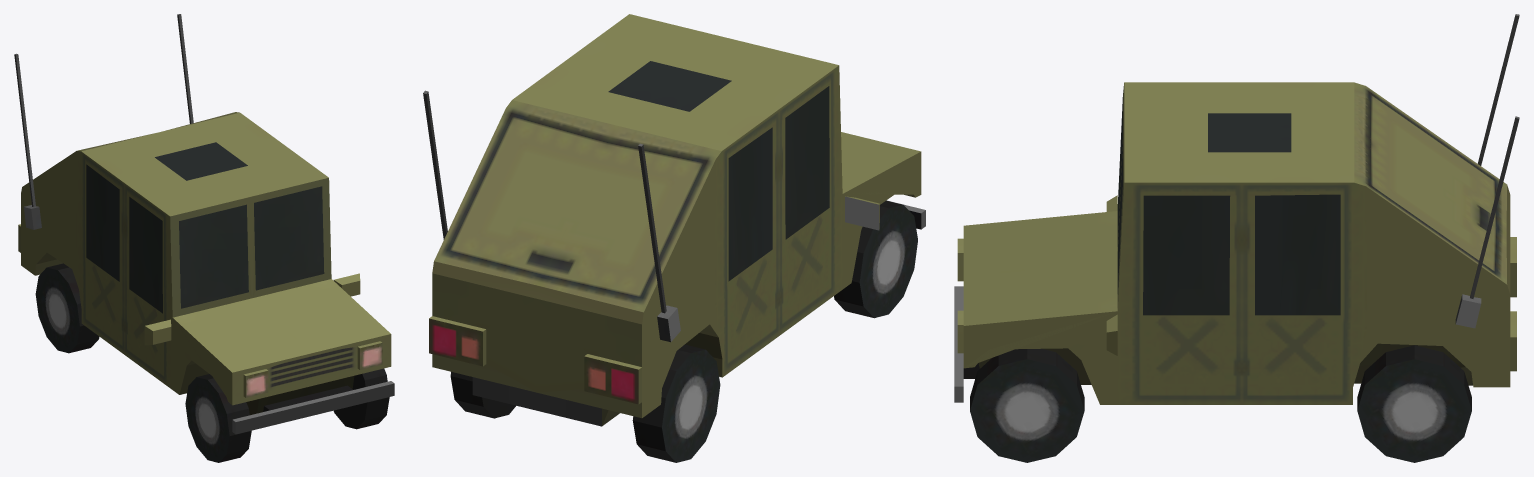
The model's file is jeep.FBX.
3 renders of one model, left to right at view 1: azimuth 30°, elevation 25°; view 2: azimuth 150°, elevation 25°; view 3: azimuth 270°, elevation 25°, orthographic. The views are drawn at different scales.
Parts seen in each view (by area): view 1: jeep; view 2: jeep; view 3: jeep.
Part boxes in pixels (x1,y1,x2,y2): jeep: (14,14,394,462); jeep: (423,14,925,462); jeep: (954,14,1519,462).
Bounding box in the file's own units: 3.98 × 4.74 × 7.
